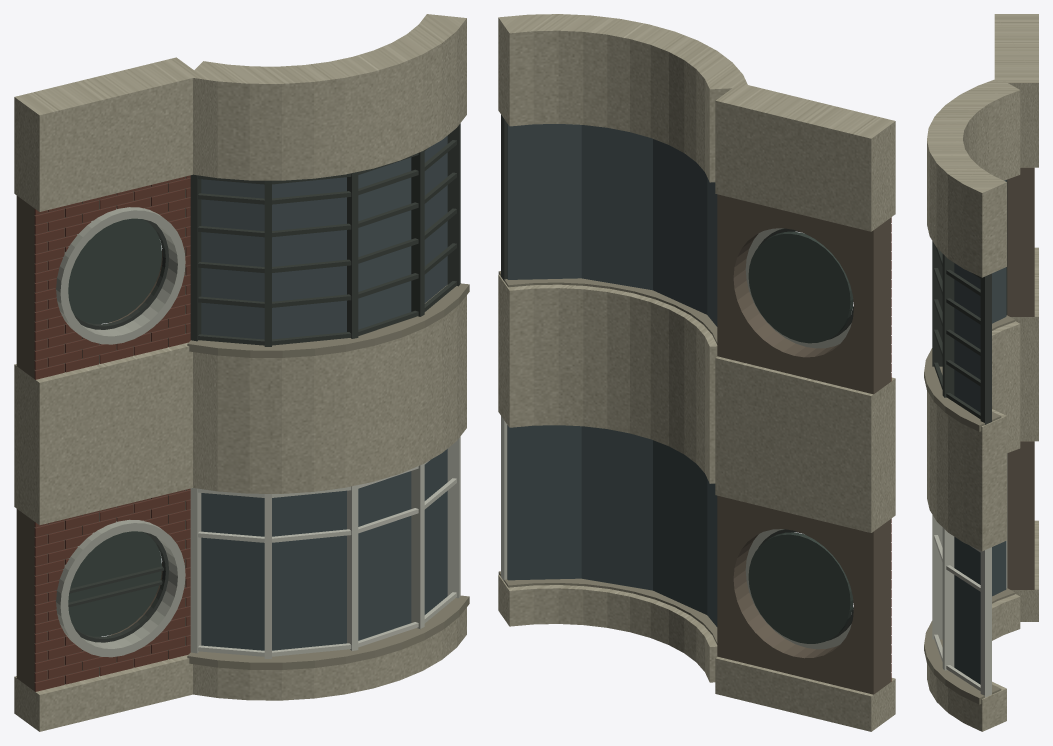
Rendered from huangpu-gaolan-lane-12-portholes-and-curved-bay-lod.glb.
3 views of the same model, side by side, from view 1: azimuth 30°, elevation 25°; view 2: azimuth 150°, elevation 25°; view 3: azimuth 270°, elevation 25° (orthographic). The views are drawn at different scales.
Parts seen in each view (by area): view 1: 皋兰路12弄街面住宅双层圆窗与弧形带窗; view 2: 皋兰路12弄街面住宅双层圆窗与弧形带窗; view 3: 皋兰路12弄街面住宅双层圆窗与弧形带窗.
Boxes of the visible parts, x1,y1,x2,y2 form: 皋兰路12弄街面住宅双层圆窗与弧形带窗: (14, 14, 469, 731); 皋兰路12弄街面住宅双层圆窗与弧形带窗: (498, 14, 895, 731); 皋兰路12弄街面住宅双层圆窗与弧形带窗: (924, 14, 1038, 731).
Bounding box in the file's own units: 4.05 × 5.67 × 1.09.
10 materials, 1 textured.
